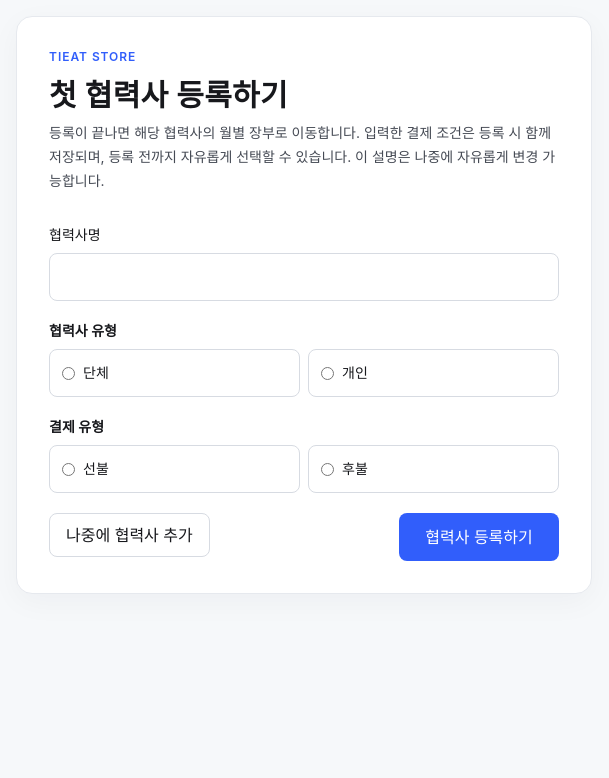
Test: PartnerRegistrationForm › rejects an empty prepaid balance before sending the registration
The width and height of the screenshot is (609, 778).
Expected: the heading "첫 협력사 등록하기" is shown, [49,77,288,113]
Type "Partner A" into the field labelled "협력사명" at (304, 277), box [49,253,559,301]
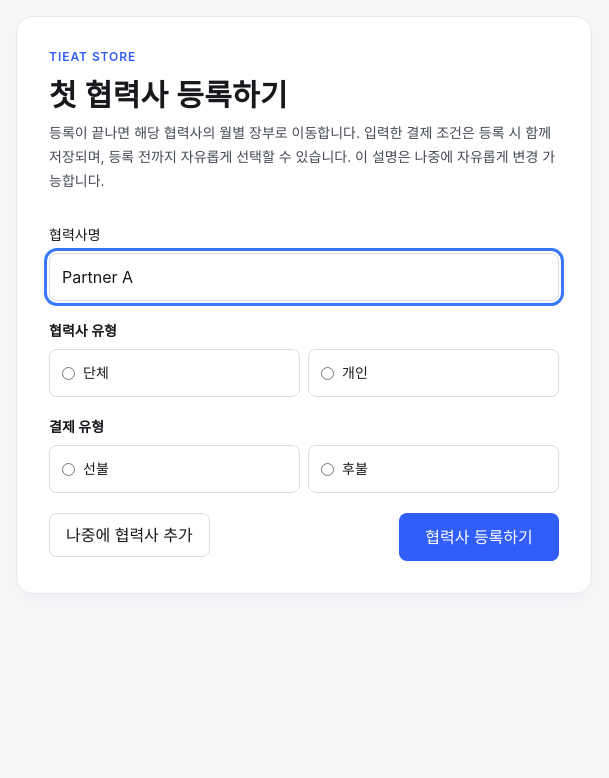
Click the radio button labelled "단체" at (68, 373), box [62,366,75,380]
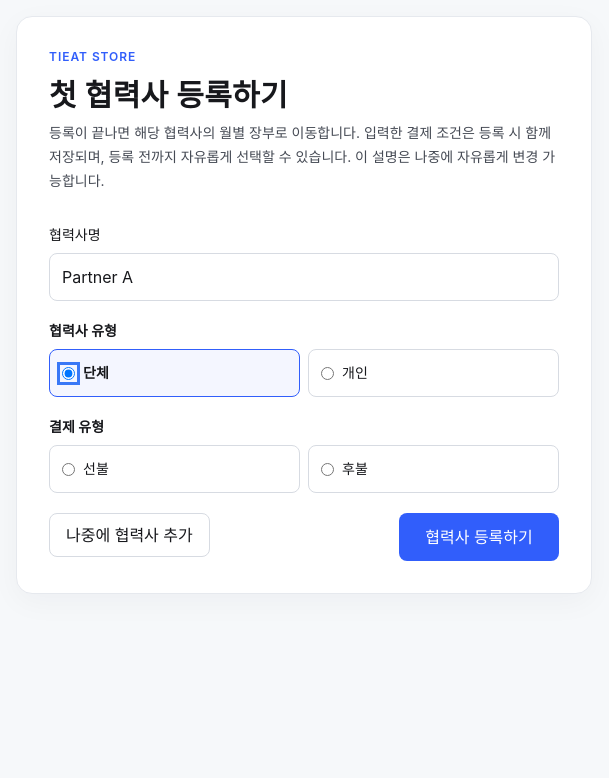
Click the radio button labelled "선불" at (68, 469), box [62,462,75,476]
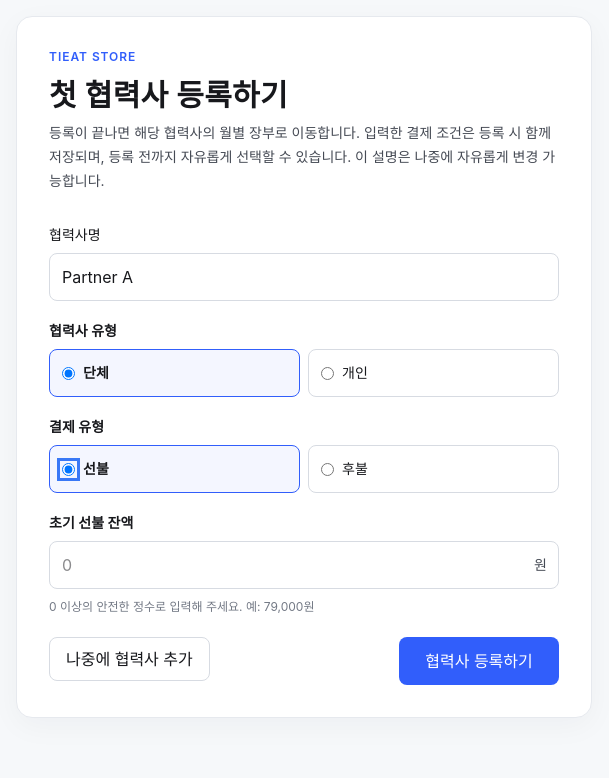
Submit the form named "협력사 등록하기", box [49,225,559,685]
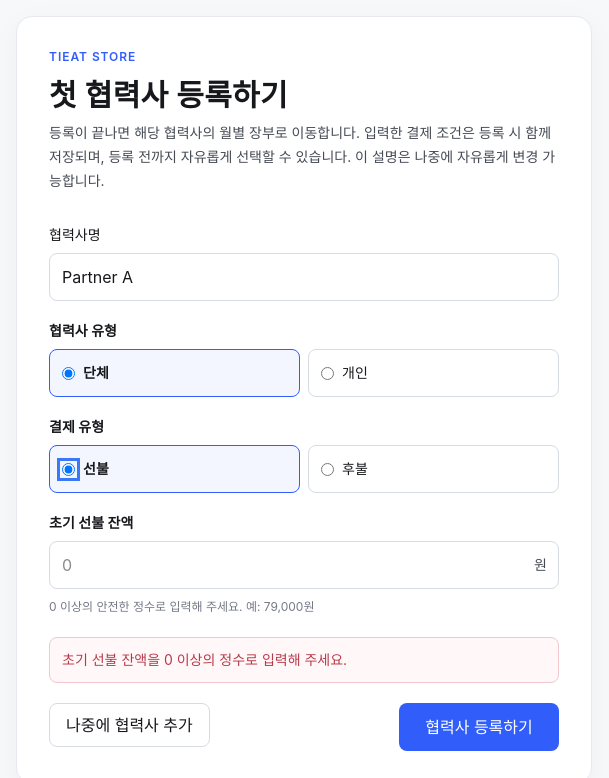
Expected: the message reads "초기 선불 잔액을 0 이상의 정수로 입력해 주세요.", [62,651,347,668]
